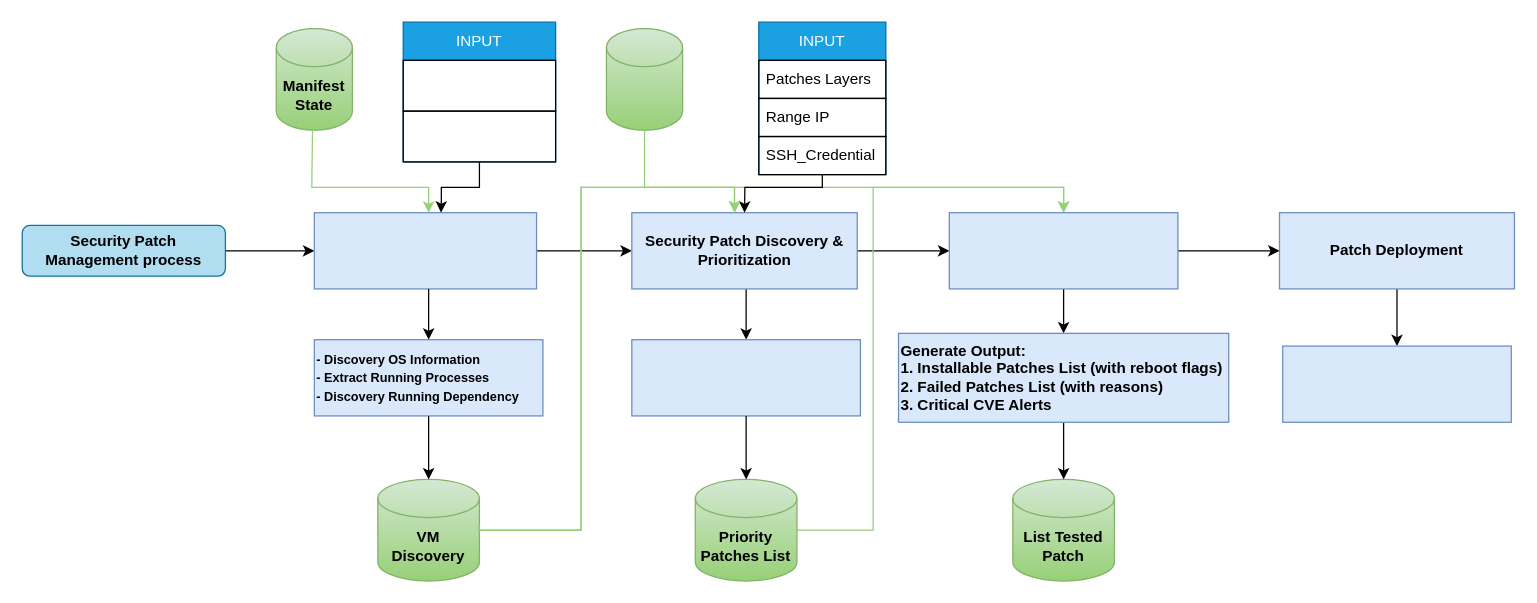
Some shapes in this 1537 by 603 pixel diagram are drawn without their labels. The shapes that lost their labels are listed below. From the top down, each one's box as (x1, y1, x2, y2) in pixels, then its label:
(402, 59, 556, 111): Security or Smart Mode
(605, 27, 683, 130): NVD DB
(402, 110, 556, 162): SMART Priority Formula
(313, 211, 537, 289): Active Environment Discovery
(948, 211, 1178, 289): Patch Testing & Validation
(631, 338, 860, 416): List of priority patches mapped to each discovered VM and their dependencies
(1281, 345, 1511, 422): Final result
